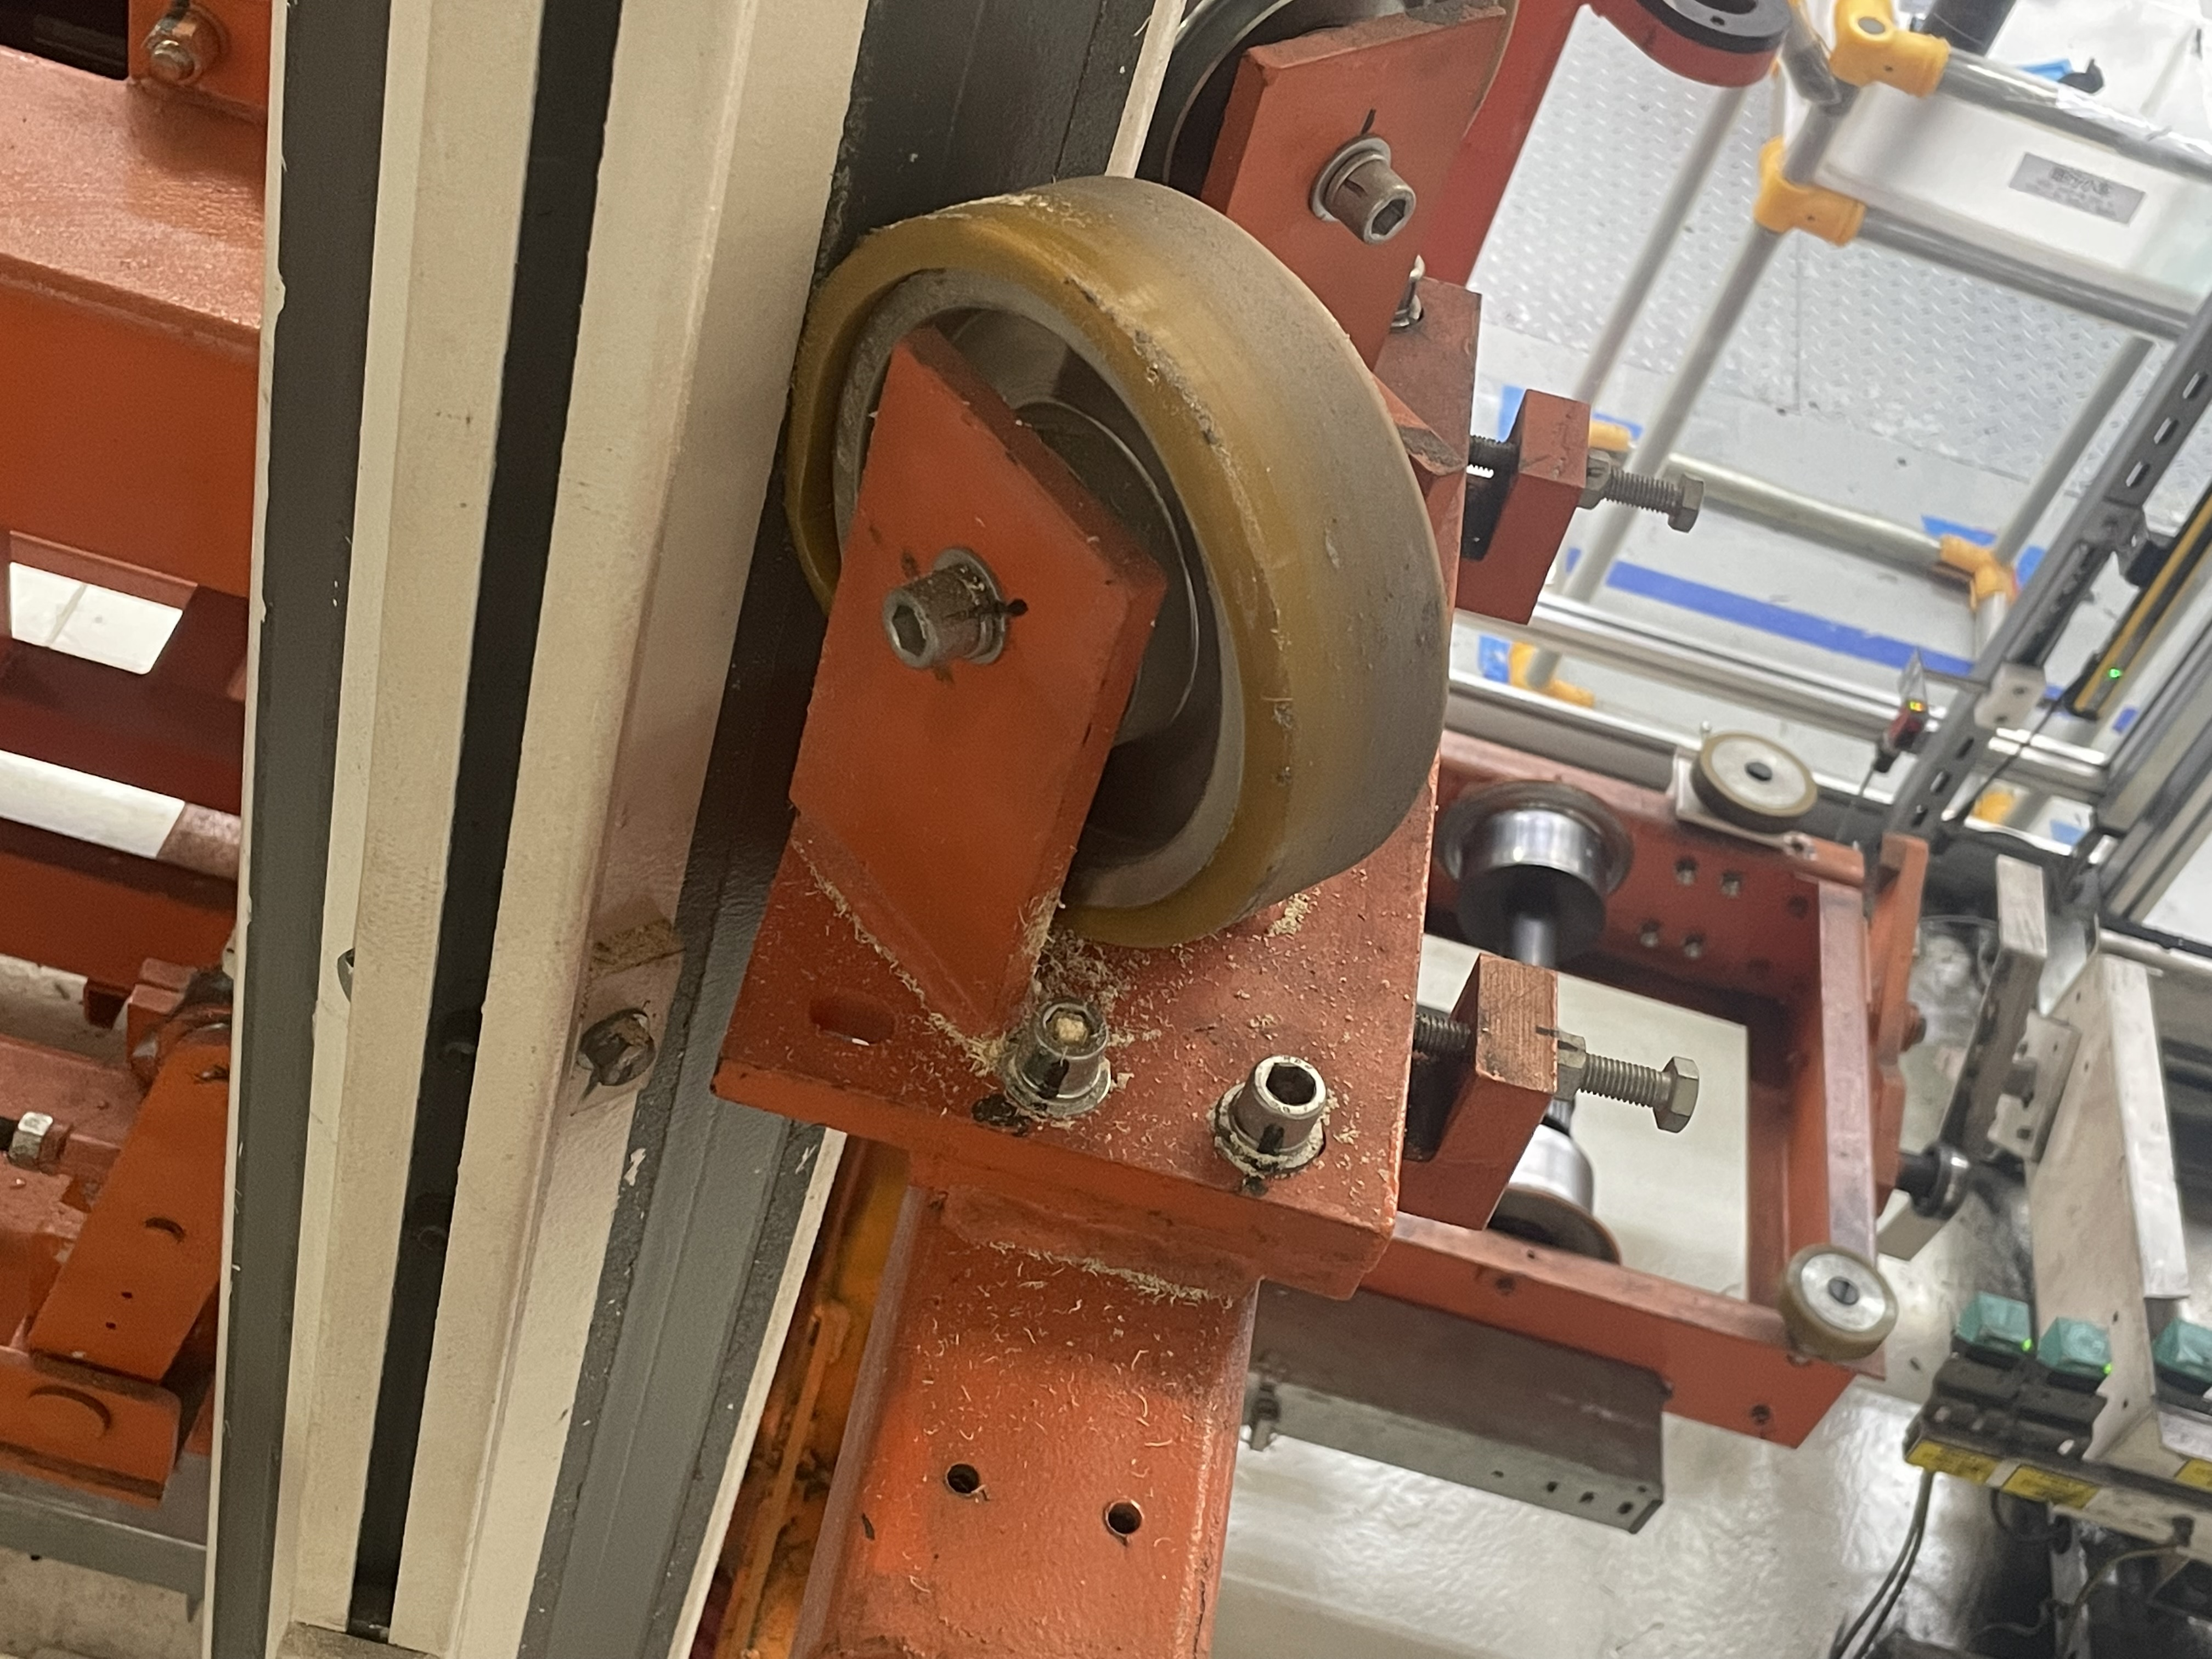bad_wheel: (763, 228, 921, 624), (914, 920, 1019, 1098), (1040, 894, 1162, 1033)
